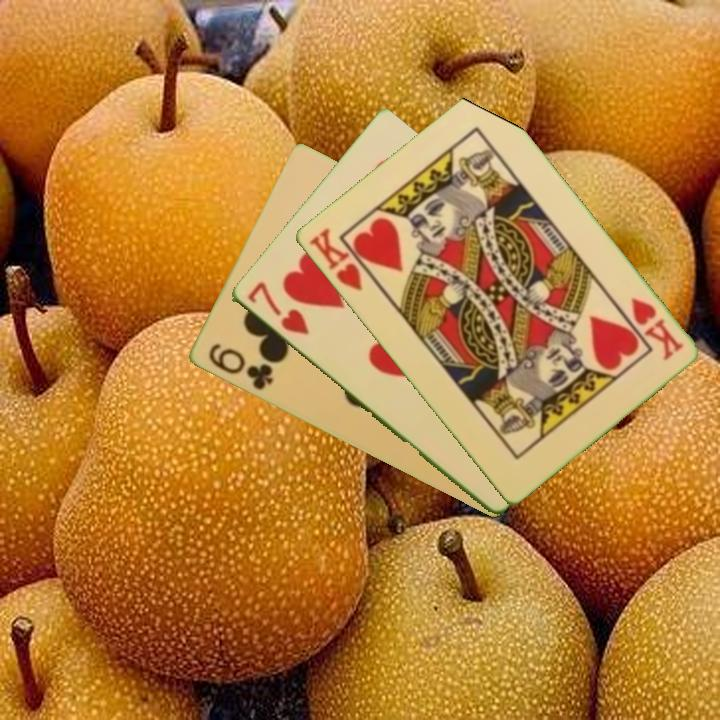6c: (204, 339, 276, 394)
7h: (243, 278, 312, 338)
Kh: (304, 224, 378, 294), (626, 293, 686, 364)
